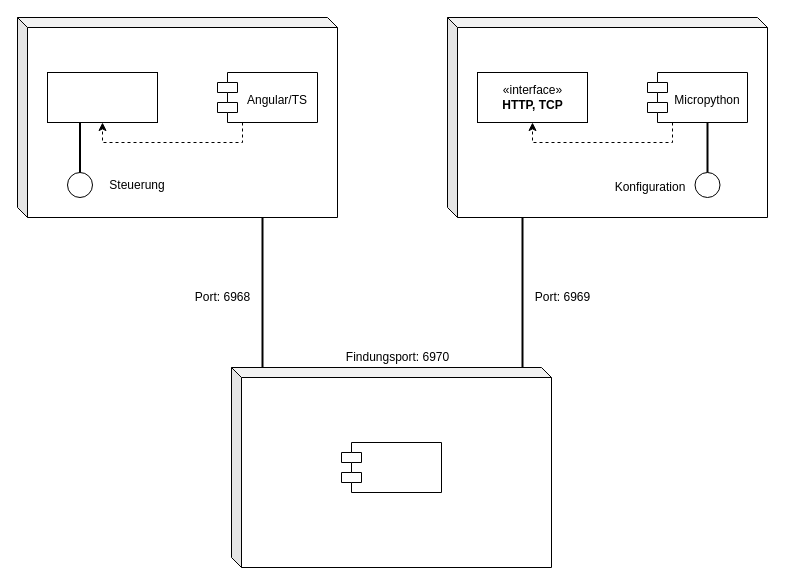
This 785x585 diagram has some shape labels left out. Here are the shapes that lost their labels. From the top down, the centre of each, then its label:
At pixel 102 97: "«interface» TCP".
At pixel 391 467: "Spring Boot".
